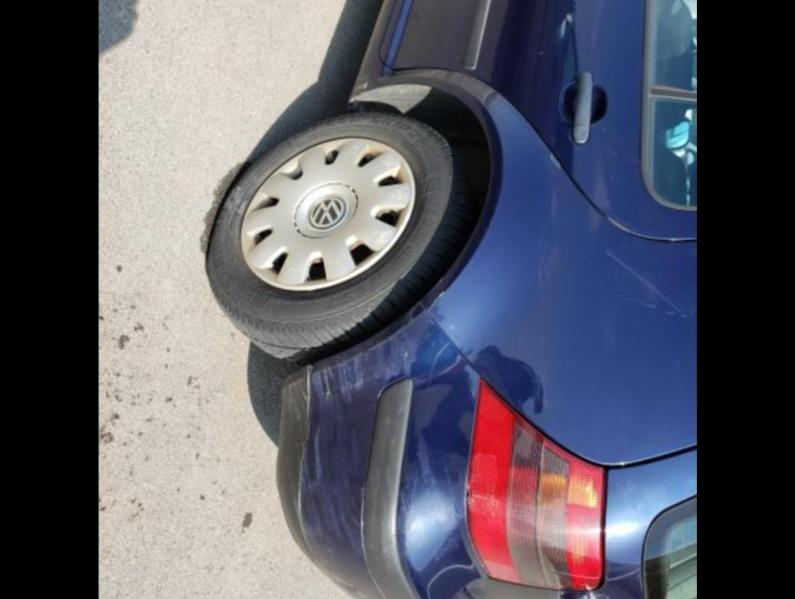Paint chip: (282, 302, 443, 562)
Scratch: (286, 288, 446, 387), (607, 252, 688, 318), (605, 213, 687, 243), (416, 342, 459, 388), (424, 561, 475, 599), (401, 277, 443, 319), (547, 151, 561, 166)
